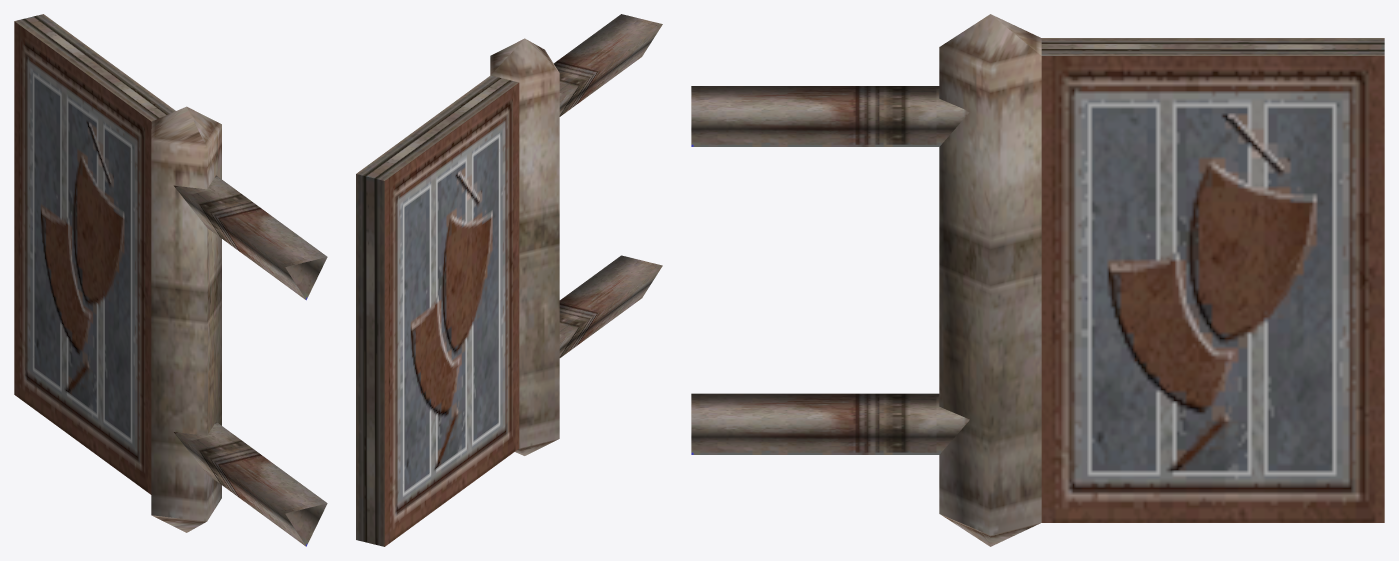
Rendered from thm_sign_tato_hanging_l1.fbx.
3 renders of one model, left to right at view 1: azimuth 30°, elevation 25°; view 2: azimuth 150°, elevation 25°; view 3: azimuth 270°, elevation 25°, orthographic. The views are drawn at different scales.
Parts seen in each view (by area): view 1: mesh_node; view 2: mesh_node; view 3: mesh_node.
Part boxes in pixels (x1,y1,x2,y2): mesh_node: [14, 14, 327, 546]; mesh_node: [356, 14, 662, 546]; mesh_node: [691, 14, 1384, 546].
Size of the model in its own units: 0.2973 by 1.71 by 2.02.
2 materials, 2 textured.
